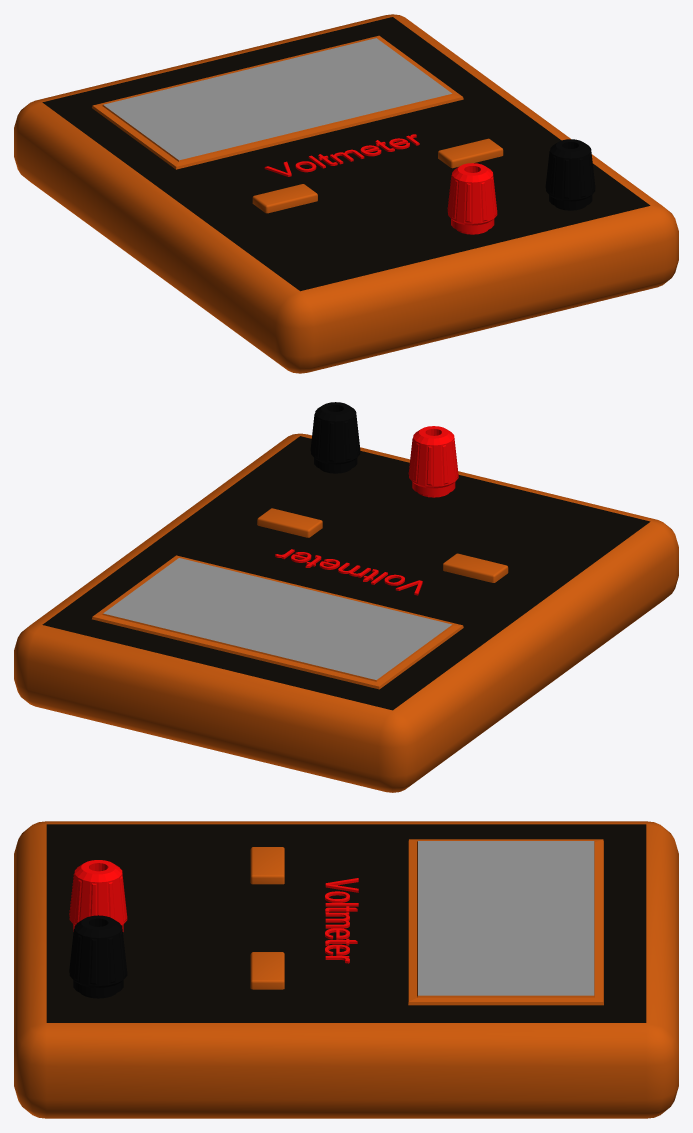
File: voltmetr.FBX
3 renders of one model, top to bottom at view 1: azimuth 30°, elevation 25°; view 2: azimuth 150°, elevation 25°; view 3: azimuth 270°, elevation 25°, orthographic. The views are drawn at different scales.
Visible parts, largest first — view 1: ChamferBox001, Object004, Object005, Cylinder007, Cylinder008; view 2: ChamferBox001, Object004, Object005, Cylinder007, Cylinder008; view 3: ChamferBox001, Object004, Object005, Cylinder008, Cylinder007.
Boxes of the visible parts, bbox=[...] form: ChamferBox001: bbox=[14, 14, 678, 373]; Object004: bbox=[42, 17, 650, 291]; Object005: bbox=[103, 38, 451, 160]; Cylinder007: bbox=[447, 163, 497, 234]; Cylinder008: bbox=[545, 139, 595, 210]; ChamferBox001: bbox=[14, 433, 678, 792]; Object004: bbox=[42, 436, 650, 710]; Object005: bbox=[103, 558, 451, 679]; Cylinder007: bbox=[408, 426, 458, 497]; Cylinder008: bbox=[310, 402, 360, 473]; ChamferBox001: bbox=[14, 821, 678, 1118]; Object004: bbox=[46, 824, 646, 1022]; Object005: bbox=[418, 841, 594, 995]; Cylinder008: bbox=[69, 915, 127, 998]; Cylinder007: bbox=[69, 860, 127, 931].
Size of the model in its own units: 3662 by 1208 by 4545.
